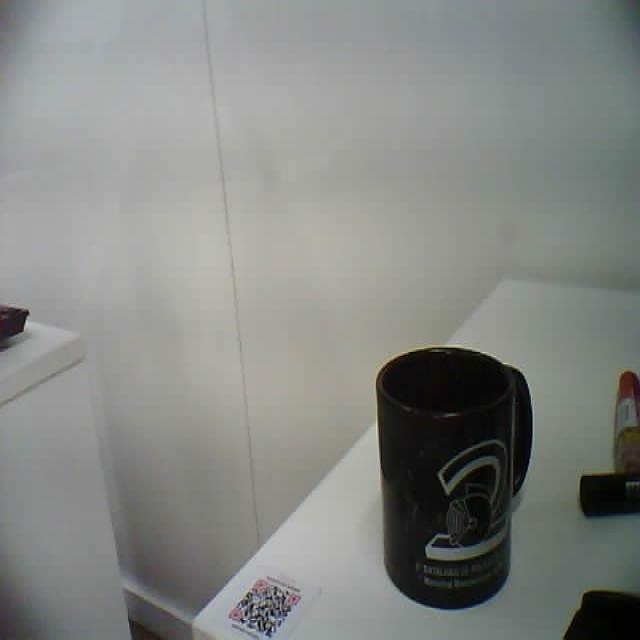caneca: (374, 361, 528, 621)
